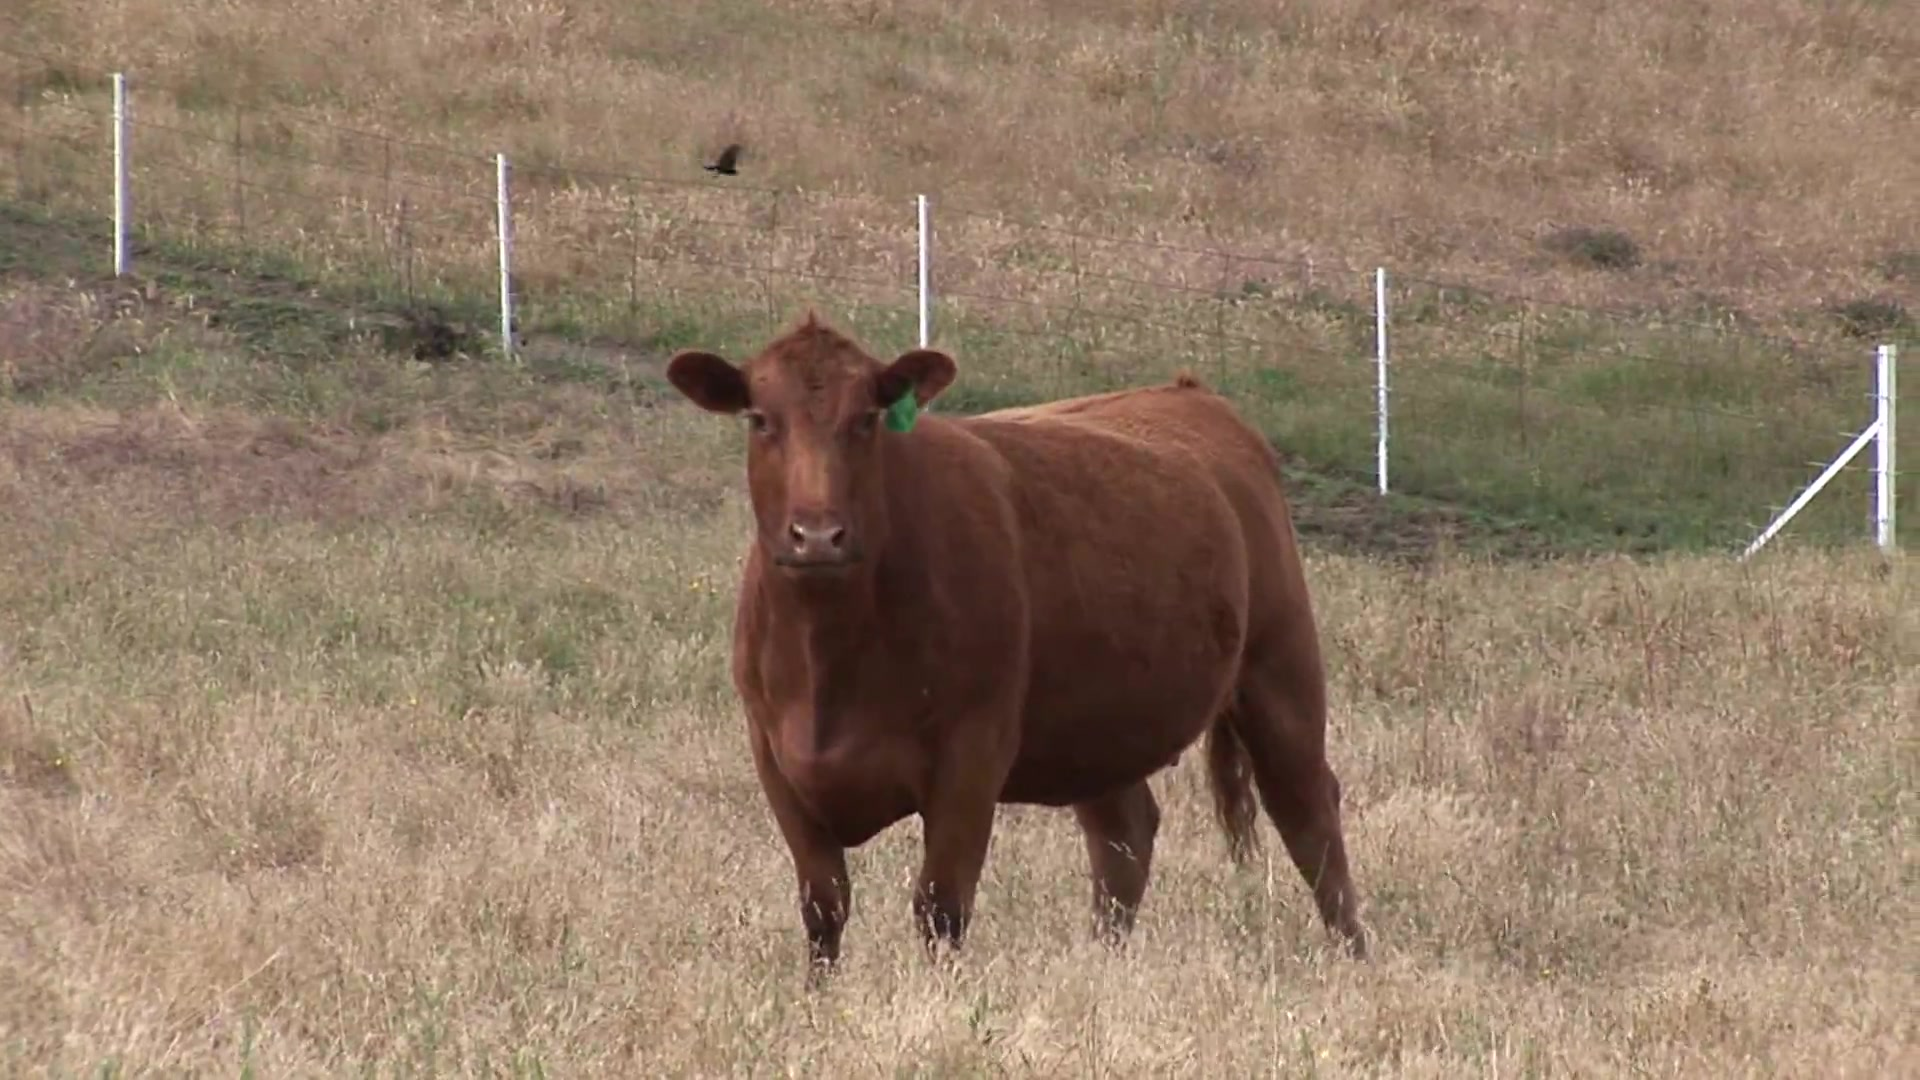cow: (663, 309, 1366, 956)
